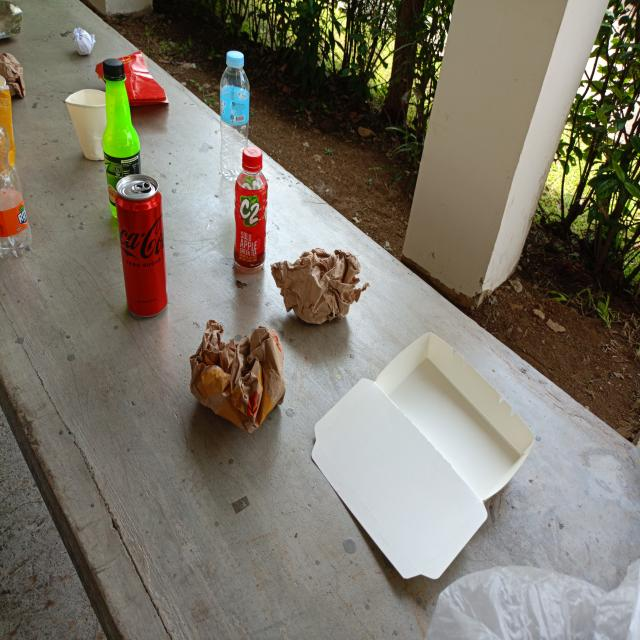Anorganik: (112, 170, 170, 322), (272, 245, 373, 326), (101, 54, 142, 222), (229, 148, 269, 272), (219, 49, 252, 182)
Organik: (310, 331, 537, 581), (190, 319, 288, 433), (94, 49, 170, 106), (65, 89, 110, 163), (72, 25, 96, 57)
